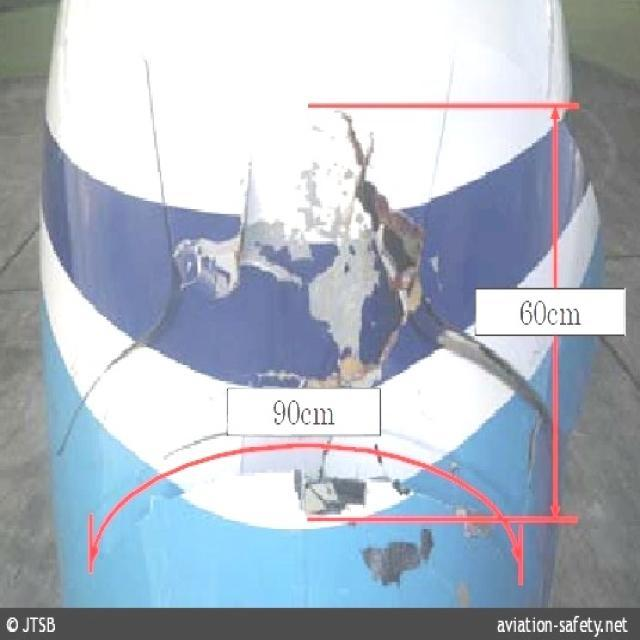crack: (339, 109, 550, 424), (57, 62, 190, 469), (217, 157, 271, 304)
